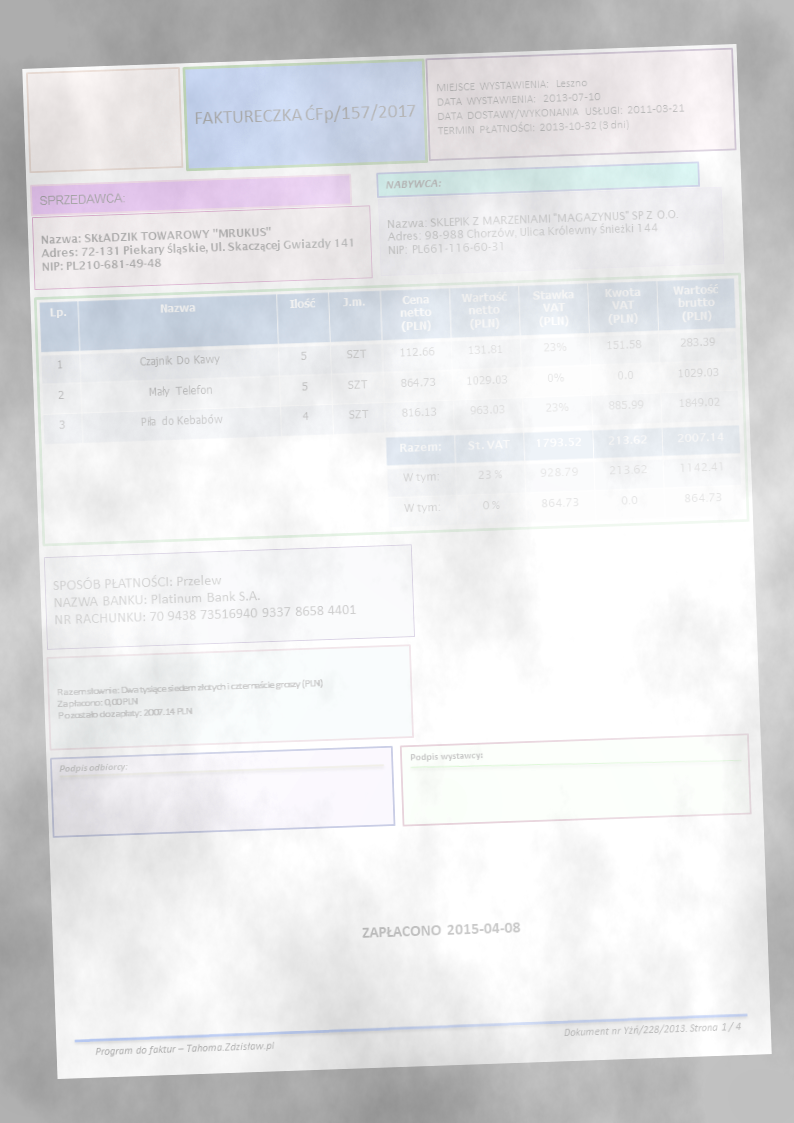Table: (37, 276, 738, 443), (383, 422, 745, 528)
TextBox: (47, 563, 360, 630), (37, 217, 356, 277), (430, 70, 689, 142), (382, 203, 682, 260), (54, 673, 329, 723), (186, 94, 419, 132), (89, 1033, 277, 1063), (354, 914, 525, 943), (561, 1018, 748, 1042), (34, 188, 127, 208), (55, 756, 131, 779), (402, 746, 485, 766), (382, 174, 442, 194)
